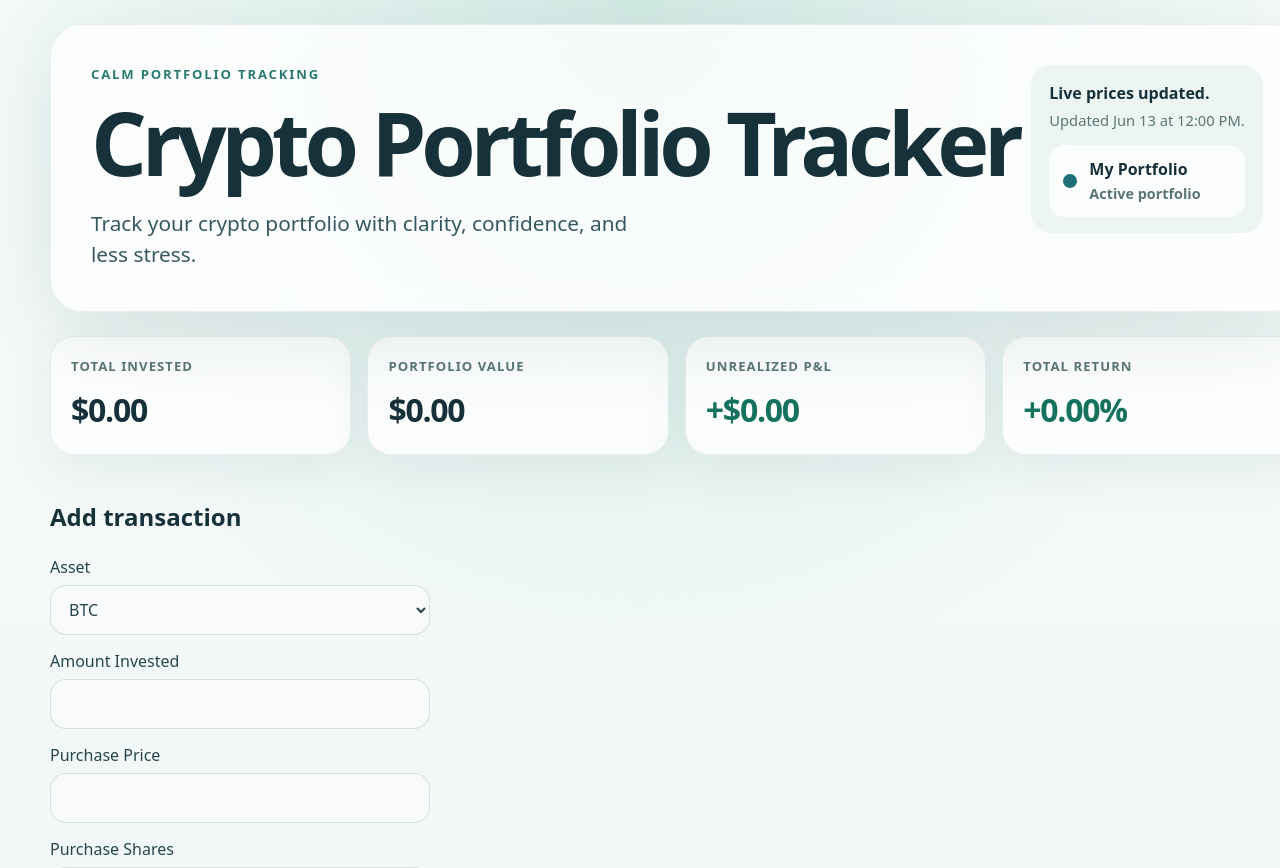
Test case: shows an error and does not update totals when persistence fails
Type "1000" into the number field labelled "Amount Invested".
click(240, 704); type("1000")  # box x1=50 y1=679 x2=430 y2=729
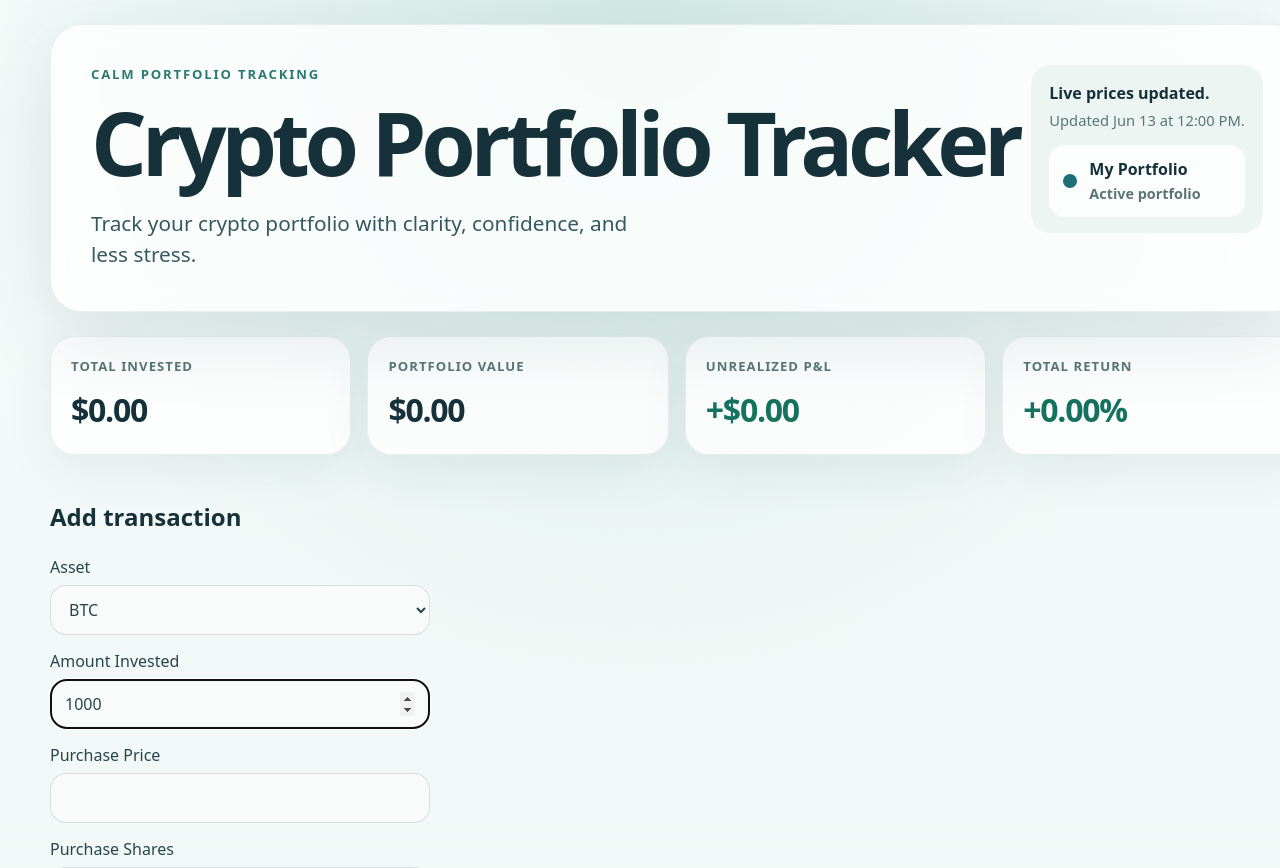
Type "50000" into the number field labelled "Purchase Price".
click(240, 798); type("50000")  # box x1=50 y1=773 x2=430 y2=823
(page scrolled)
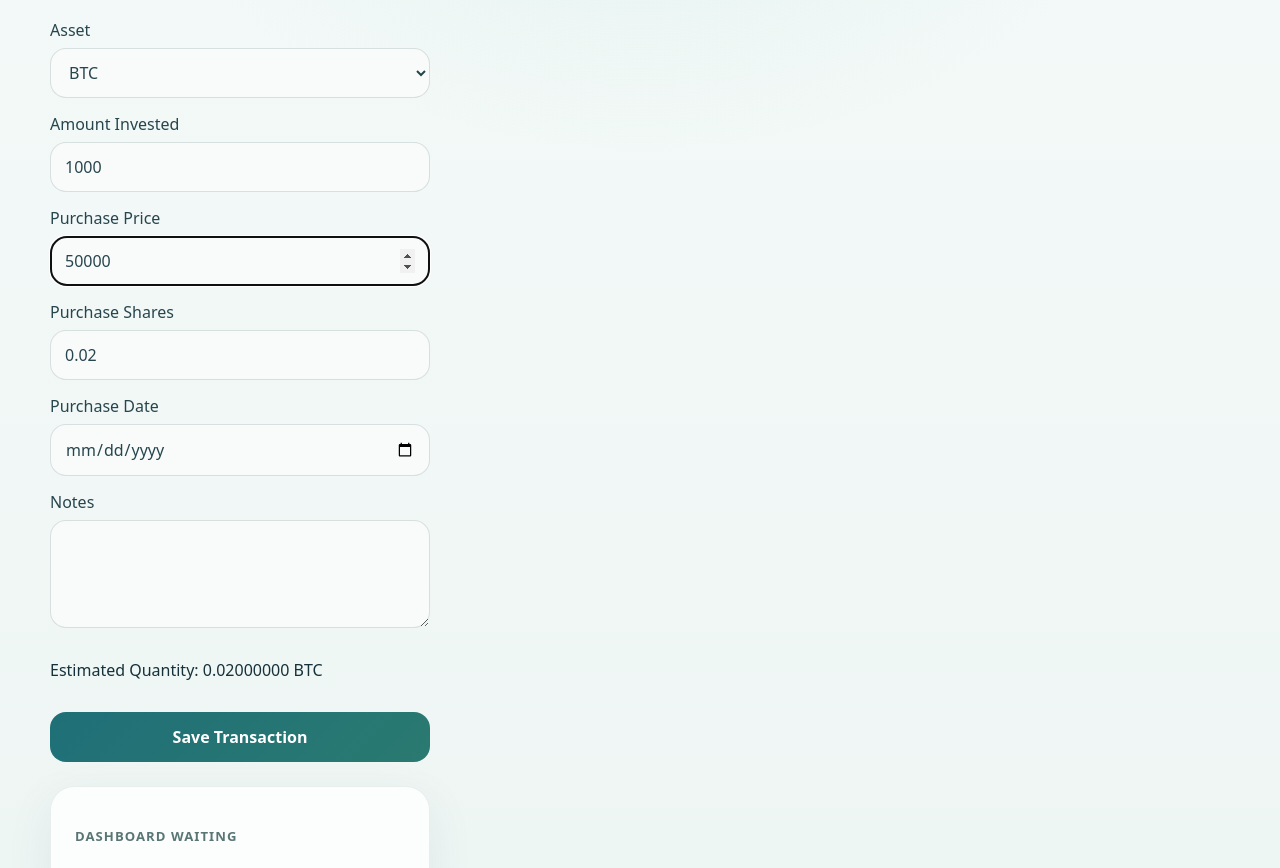
Type "2026-06-01" into the date field labelled "Purchase Date".
click(240, 450); type("2026-06-01")  # box x1=50 y1=424 x2=430 y2=476
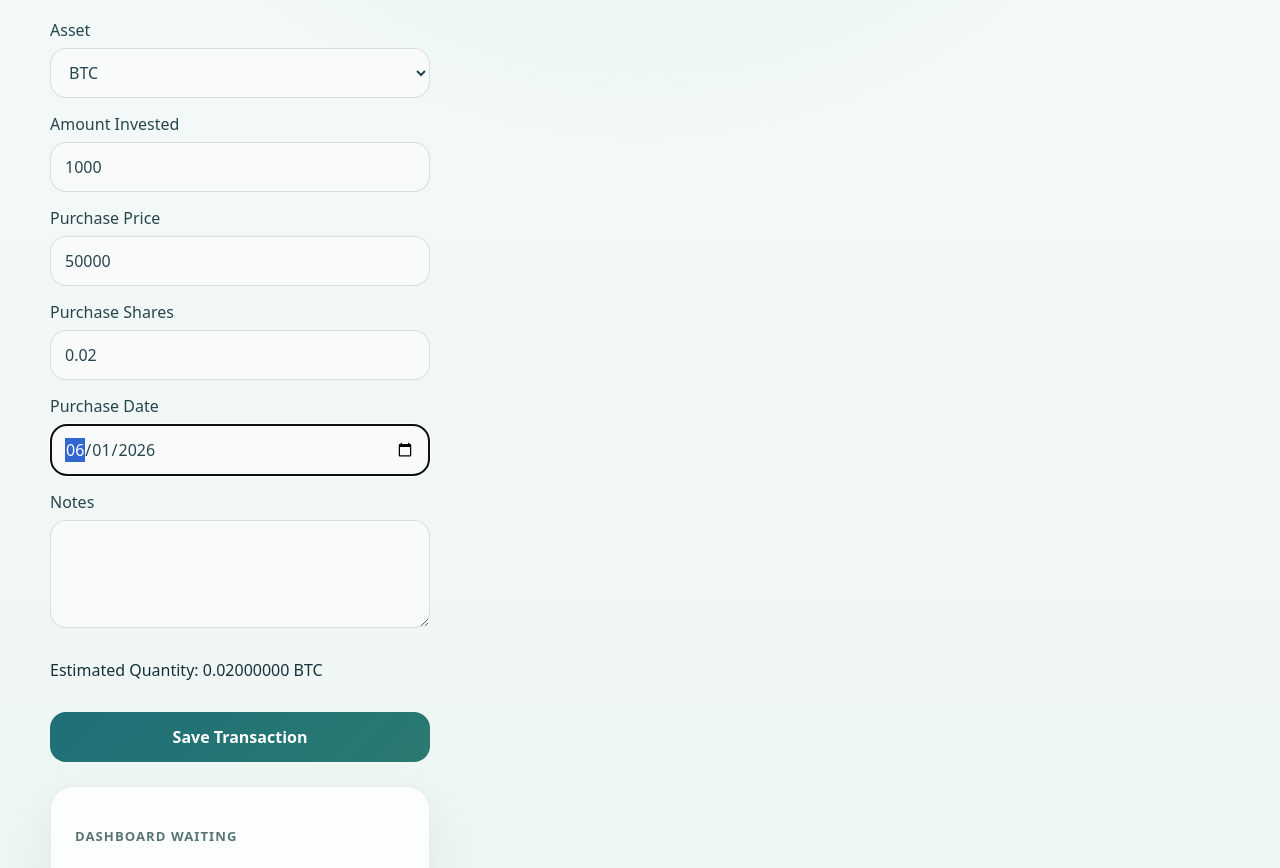
Click the button "Save Transaction".
click(240, 737)  # box x1=50 y1=712 x2=430 y2=762
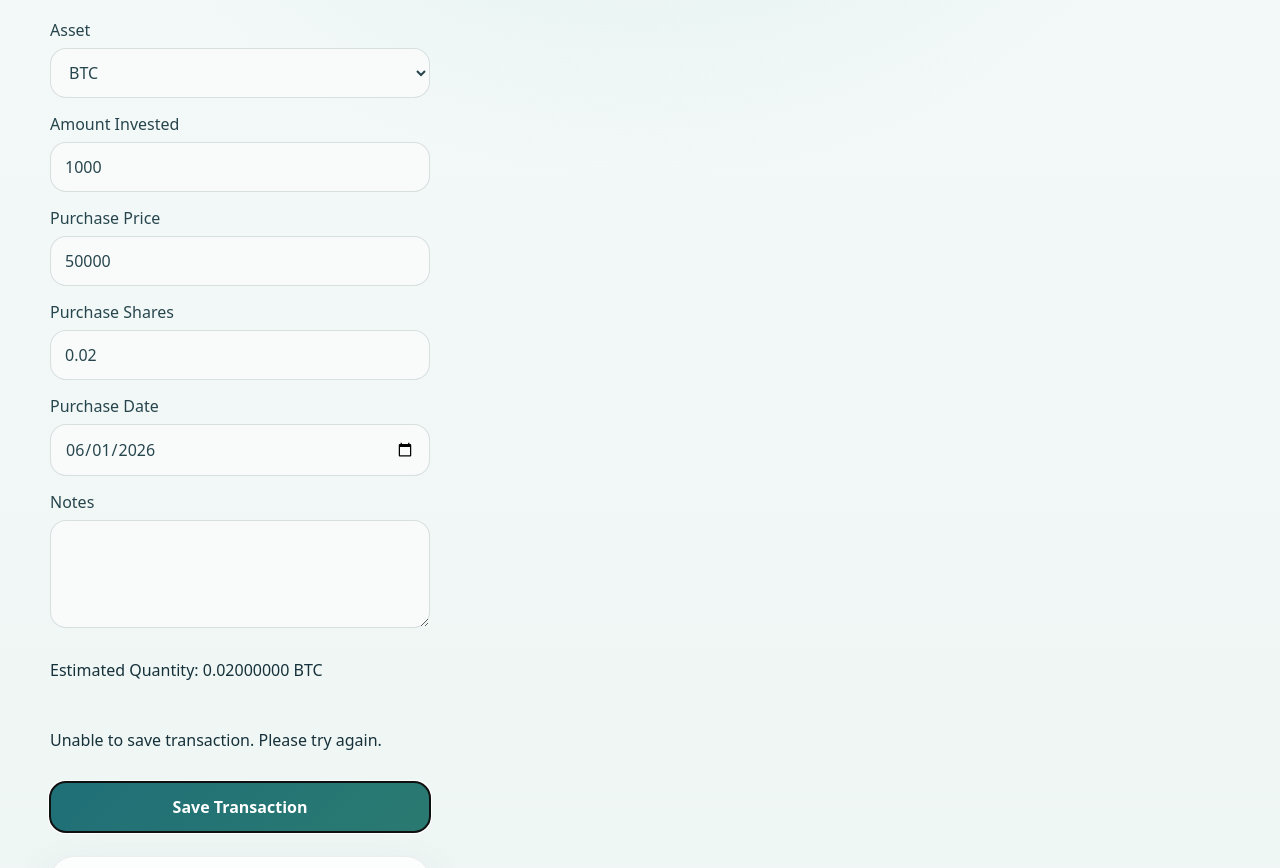
Expected: the text "Unable to save transaction. Please try again." is shown, x1=50 y1=728 x2=430 y2=752
